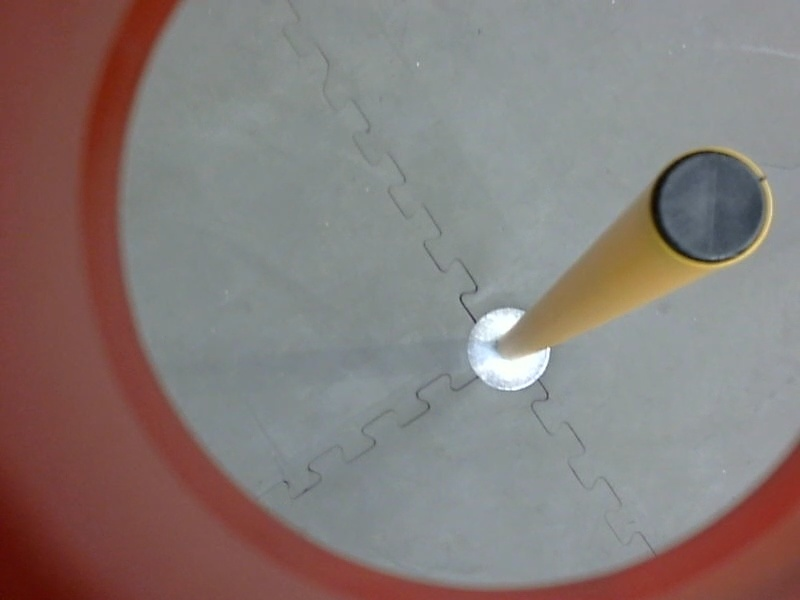tip: (640, 139, 777, 278)
